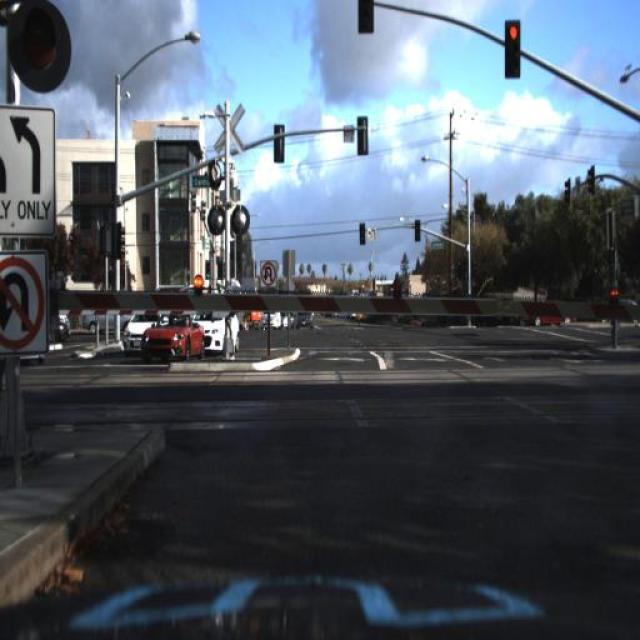car: (140, 311, 206, 361), (77, 302, 142, 342), (194, 306, 241, 355), (524, 297, 578, 332), (122, 304, 159, 352), (44, 320, 68, 354), (260, 305, 281, 335), (257, 305, 278, 331), (47, 310, 73, 330), (260, 302, 278, 327), (508, 311, 527, 334), (295, 305, 313, 329)
trafficLight: (608, 284, 623, 348)
trafficLight-Green: (0, 0, 105, 100), (18, 3, 66, 83), (358, 1, 376, 38), (356, 210, 372, 250)
trafficLight-RedLeft: (496, 12, 529, 87), (504, 21, 522, 78), (358, 220, 367, 246), (414, 216, 420, 242)
